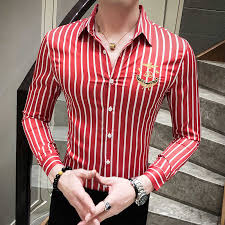striped: (19, 8, 206, 196)
